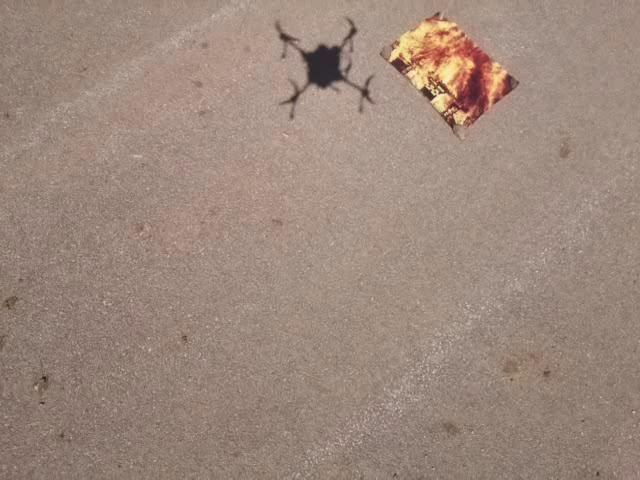fire-poster: (380, 10, 520, 141)
